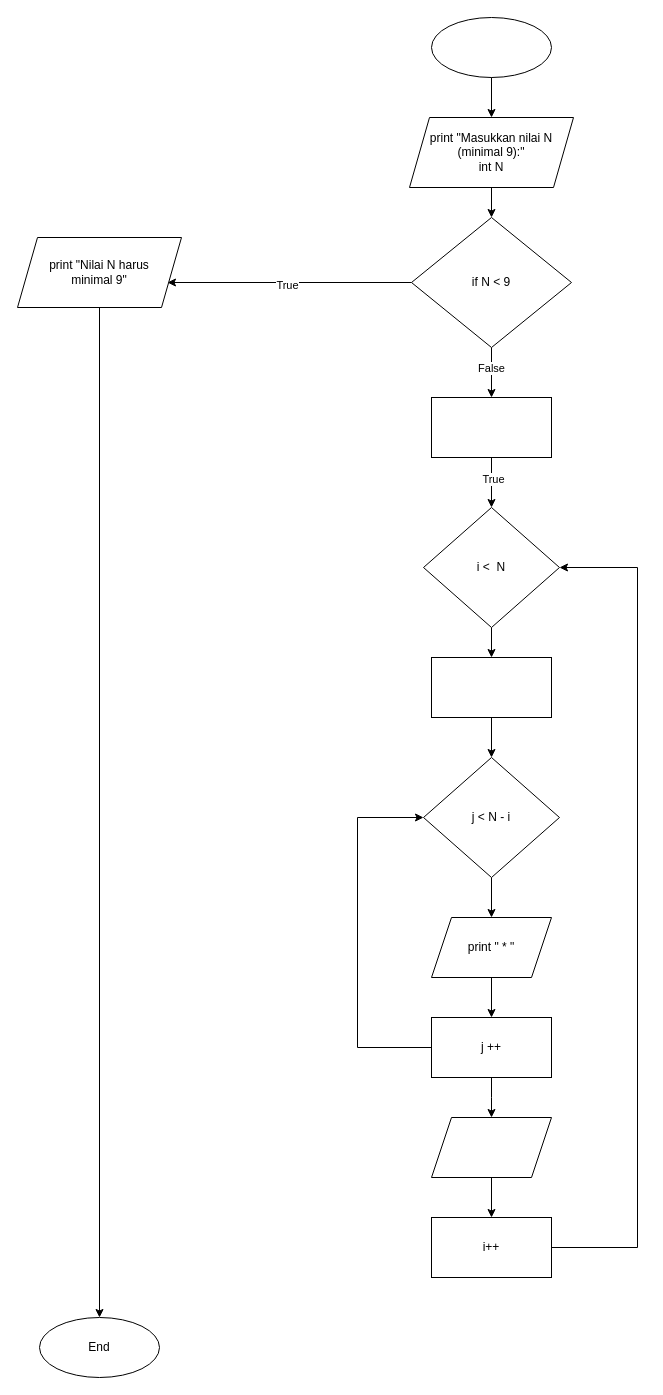
Some shapes in this 663 by 1395 pixel diagram are drawn without their labels. The centre of each missing label's shape, as x and y in pixels:
"int i = 0" belongs at point (491, 427).
"int j = 0" belongs at point (491, 687).
"println ( )" belongs at point (491, 1147).
"Start" belongs at point (491, 47).
